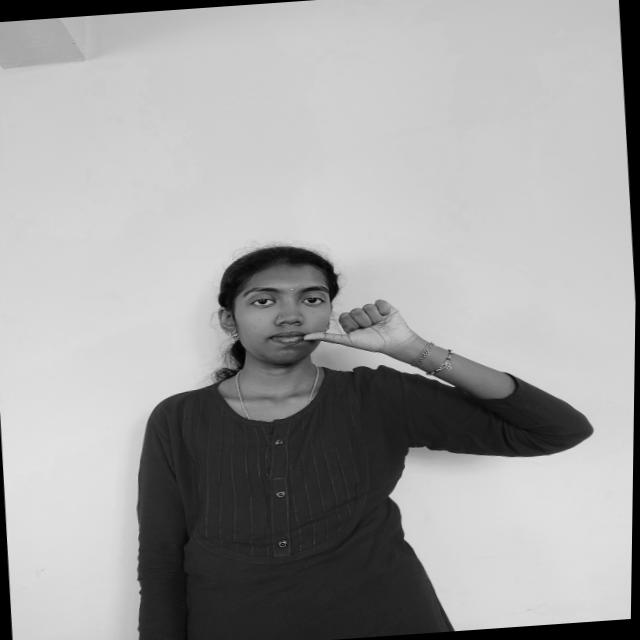Drink: (295, 292, 430, 368)
